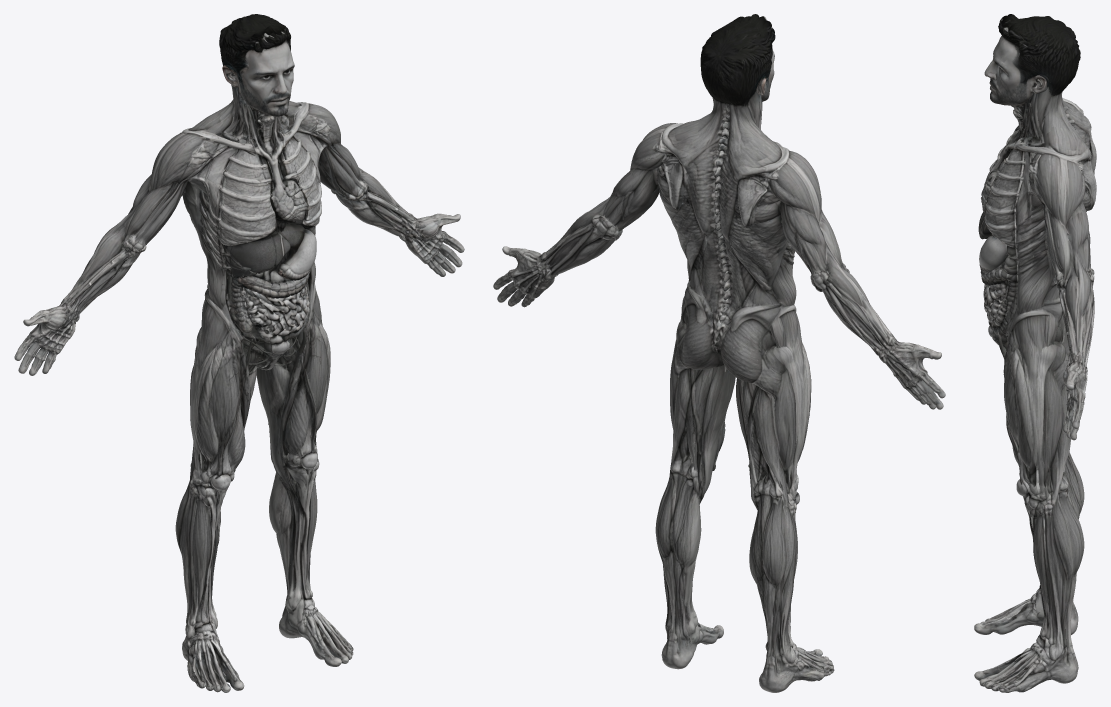
Rendered from anatomy.glb.
3 views of the same model, side by side, from view 1: azimuth 30°, elevation 25°; view 2: azimuth 150°, elevation 25°; view 3: azimuth 270°, elevation 25° (orthographic).
Visible parts, largest first — view 1: tripo_part_0, tripo_part_1, tripo_part_3, tripo_part_5, tripo_part_25, tripo_part_9, tripo_part_16, tripo_part_8, tripo_part_11, tripo_part_7, tripo_part_20, tripo_part_2 (+16 smaller); view 2: tripo_part_0, tripo_part_1, tripo_part_22, tripo_part_3, tripo_part_6, tripo_part_11, tripo_part_21, tripo_part_7, tripo_part_9, tripo_part_24, tripo_part_23, tripo_part_4 (+8 smaller); view 3: tripo_part_1, tripo_part_3, tripo_part_10, tripo_part_22, tripo_part_6, tripo_part_2, tripo_part_23, tripo_part_12, tripo_part_4, tripo_part_15, tripo_part_24, tripo_part_8 (+12 smaller).
Boxes of the visible parts, bbox=[...] form: tripo_part_0: bbox=[175, 182, 260, 638]; tripo_part_1: bbox=[256, 290, 330, 613]; tripo_part_3: bbox=[219, 14, 294, 116]; tripo_part_5: bbox=[194, 296, 289, 634]; tripo_part_25: bbox=[219, 149, 273, 245]; tripo_part_9: bbox=[149, 130, 237, 198]; tripo_part_16: bbox=[286, 459, 319, 610]; tripo_part_8: bbox=[279, 283, 317, 466]; tripo_part_11: bbox=[67, 174, 151, 321]; tripo_part_7: bbox=[14, 303, 75, 375]; tripo_part_20: bbox=[207, 102, 309, 231]; tripo_part_2: bbox=[279, 581, 353, 666]; tripo_part_0: bbox=[718, 214, 811, 664]; tripo_part_1: bbox=[655, 287, 735, 640]; tripo_part_22: bbox=[663, 87, 782, 185]; tripo_part_3: bbox=[700, 14, 775, 107]; tripo_part_6: bbox=[542, 168, 659, 280]; tripo_part_11: bbox=[779, 201, 888, 362]; tripo_part_21: bbox=[663, 153, 723, 247]; tripo_part_7: bbox=[868, 338, 945, 409]; tripo_part_9: bbox=[755, 151, 821, 221]; tripo_part_24: bbox=[493, 246, 554, 307]; tripo_part_23: bbox=[658, 186, 721, 306]; tripo_part_4: bbox=[759, 642, 834, 692]; tripo_part_1: bbox=[1004, 303, 1084, 660]; tripo_part_3: bbox=[984, 14, 1080, 106]; tripo_part_10: bbox=[1015, 152, 1085, 224]; tripo_part_22: bbox=[1021, 82, 1091, 165]; tripo_part_6: bbox=[1063, 201, 1094, 374]; tripo_part_2: bbox=[974, 642, 1078, 692]; tripo_part_23: bbox=[1005, 230, 1060, 328]; tripo_part_12: bbox=[984, 151, 1024, 248]; tripo_part_4: bbox=[974, 593, 1078, 634]; tripo_part_15: bbox=[1043, 203, 1071, 292]; tripo_part_24: bbox=[1062, 357, 1087, 440]; tripo_part_8: bbox=[992, 310, 1049, 495].
Bounding box in the file's own units: 1.32 × 1.8 × 0.3123.
Materials: 56 (56 with a texture image).
